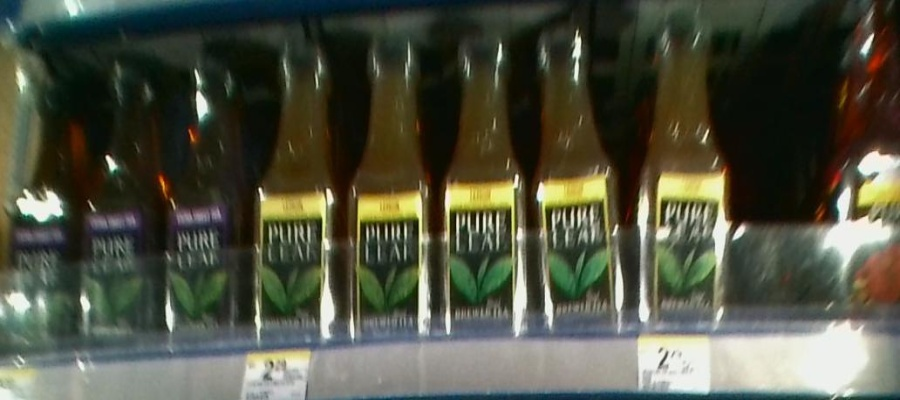bottle: (526, 27, 631, 343), (636, 16, 735, 340), (345, 33, 439, 345), (250, 39, 338, 348), (441, 28, 522, 343), (81, 61, 159, 367), (163, 61, 240, 368), (10, 70, 78, 365)
